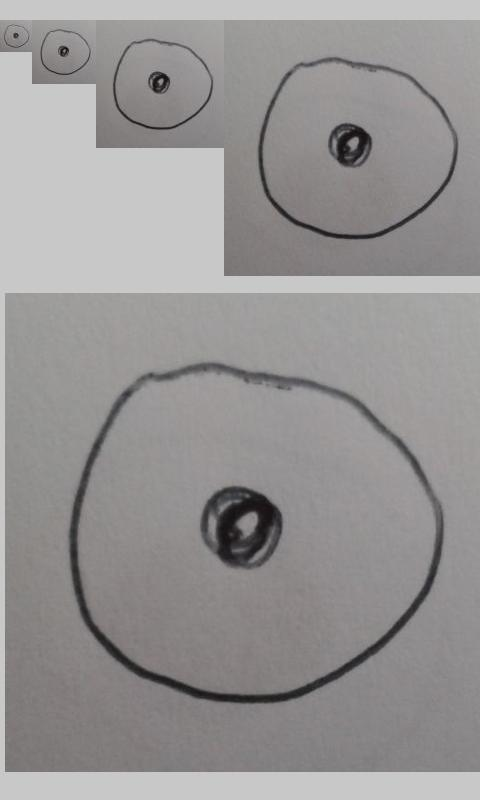radio_button: (66, 358, 447, 706), (255, 53, 460, 242), (112, 38, 214, 131), (39, 29, 91, 76), (3, 24, 30, 49)
